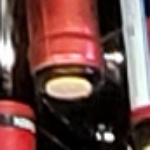bottle: (20, 30, 119, 122)
